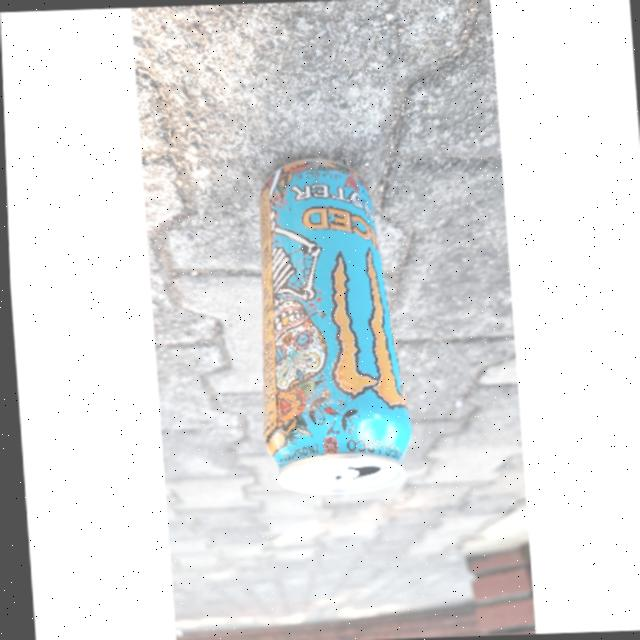Monster Mango Loco: (242, 158, 407, 504)
